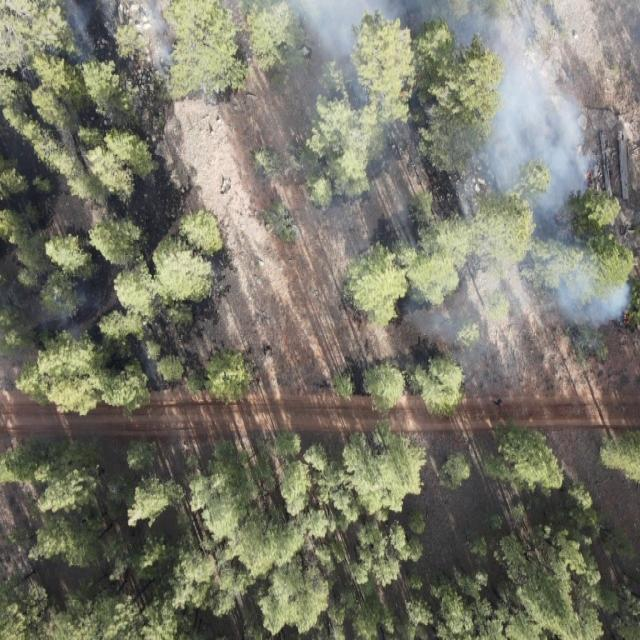fire: (620, 311, 632, 330), (582, 168, 593, 184)
smoke: (286, 76, 604, 258), (0, 0, 640, 76), (401, 258, 640, 328), (422, 327, 537, 397), (32, 280, 94, 341)
